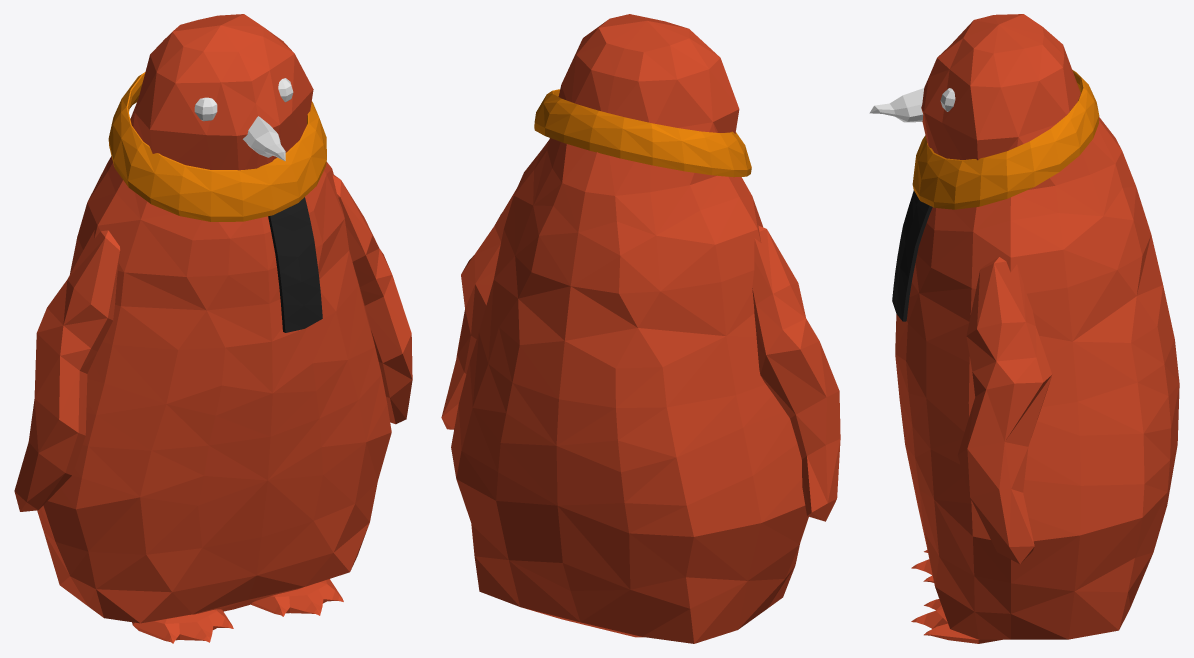
File: snow_penguin_red.fbx
3 renders of one model, left to right at view 1: azimuth 30°, elevation 25°; view 2: azimuth 150°, elevation 25°; view 3: azimuth 270°, elevation 25°, orthographic.
Parts seen in each view (by area): view 1: Sphere.002; view 2: Sphere.002; view 3: Sphere.002.
Boxes of the visible parts, left/top/right/bottom form: Sphere.002: left=14, top=14, right=412, bottom=643; Sphere.002: left=441, top=14, right=840, bottom=643; Sphere.002: left=869, top=14, right=1179, bottom=643.
Size of the model in its own units: 661 by 950 by 459.
